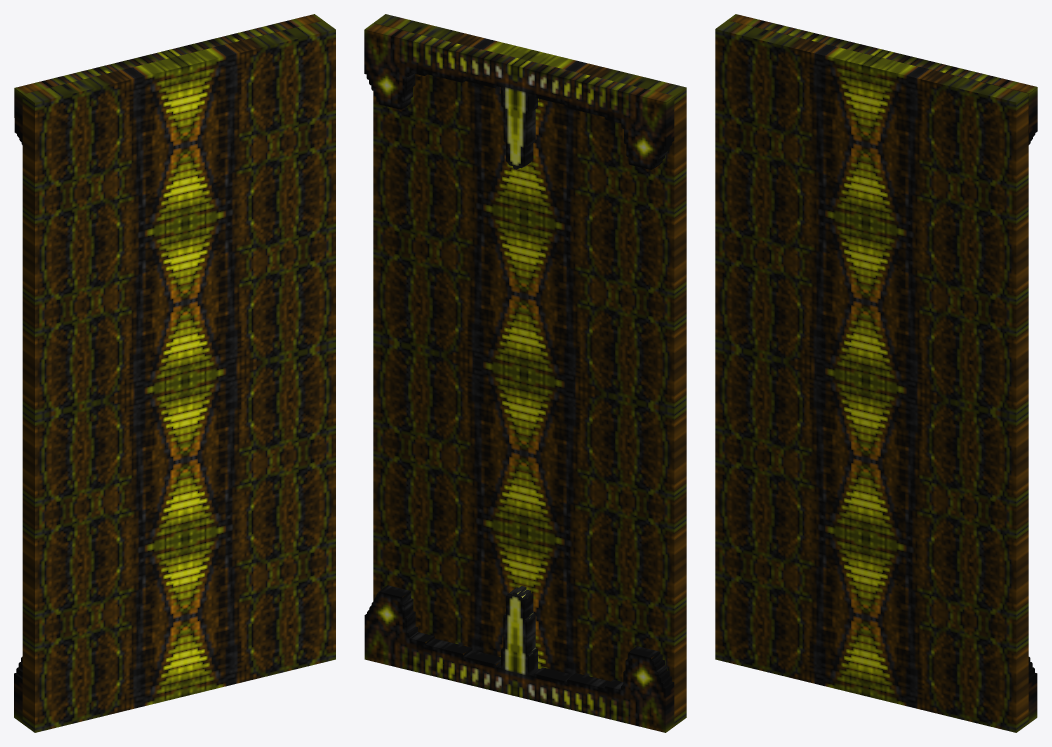
The model's file is FieldMainWall.fbx.
The picture shows the model from 3 angles, left to right: view 1: azimuth 30°, elevation 25°; view 2: azimuth 150°, elevation 25°; view 3: azimuth 330°, elevation 25°; orthographic projection.
Visible parts, largest first — view 1: Wall完成_0_1, Wall完成; view 2: Wall完成_0_1, Wall完成, Wall完成2_8, Wall完成2_7_1, Wall完成2_8_1, Wall完成2_7, Wall完成2_31_1, Wall完成2_32, Wall完成2_32_1, Wall完成2_31, Wall完成2_33_1, Wall完成2_34 (+15 smaller); view 3: Wall完成_0_1, Wall完成.
Part boxes in pixels (box(x1,y1,x2,y2)): Wall完成_0_1: box(22, 20, 335, 417); Wall完成: box(22, 344, 335, 732); Wall完成_0_1: box(373, 14, 686, 411); Wall完成: box(373, 338, 686, 726); Wall完成2_8: box(378, 585, 410, 668); Wall完成2_7_1: box(378, 26, 410, 109); Wall完成2_8_1: box(628, 87, 660, 169); Wall完成2_7: box(628, 646, 660, 729); Wall完成2_31_1: box(425, 38, 471, 82); Wall完成2_32: box(426, 638, 472, 683); Wall完成2_32_1: box(567, 72, 612, 116); Wall完成2_31: box(567, 673, 610, 717); Wall完成2_33_1: box(463, 47, 504, 88); Wall完成2_34: box(463, 650, 500, 691); Wall完成_0_1: box(715, 20, 1028, 417); Wall完成: box(715, 344, 1028, 732).
Bounding box in the file's own units: 100 × 200 × 12.27.
Materials: 2 (2 with a texture image).
